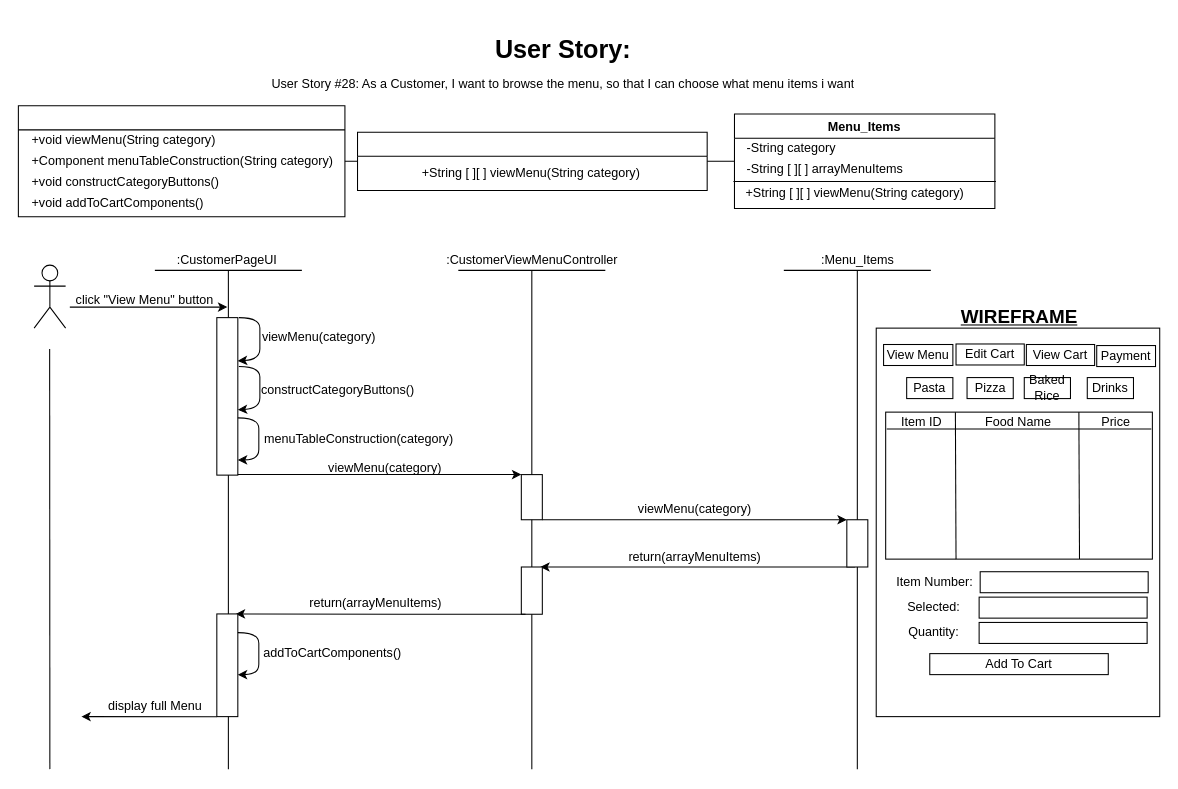
The diagram is 1178 pixels wide and 789 high, and some of its shapes have lost their labels. The shapes that lost their labels are listed below. From the top down, each one's box as (x1, y1, x2, y2) in pixels, then its label:
(17, 105, 345, 217): CustomerPageUI
(356, 131, 707, 190): CustomerViewMenuController
(33, 264, 66, 328): Customer
